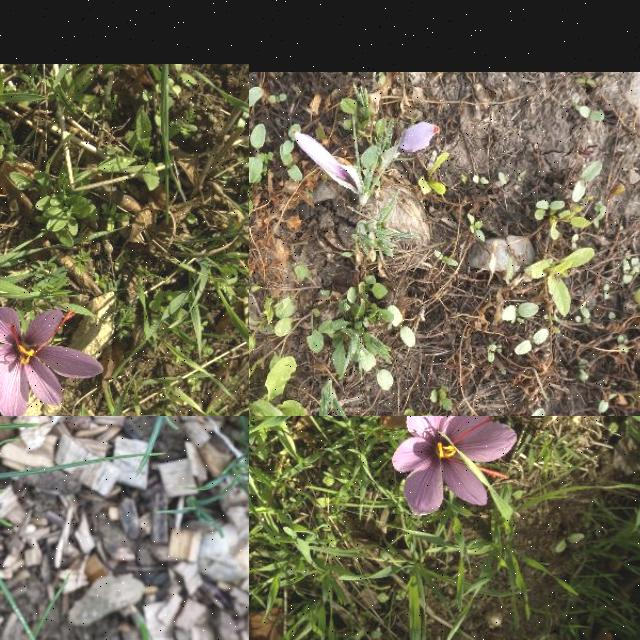flower: (392, 416, 518, 515), (0, 306, 104, 416), (293, 130, 361, 186), (399, 122, 441, 152)
